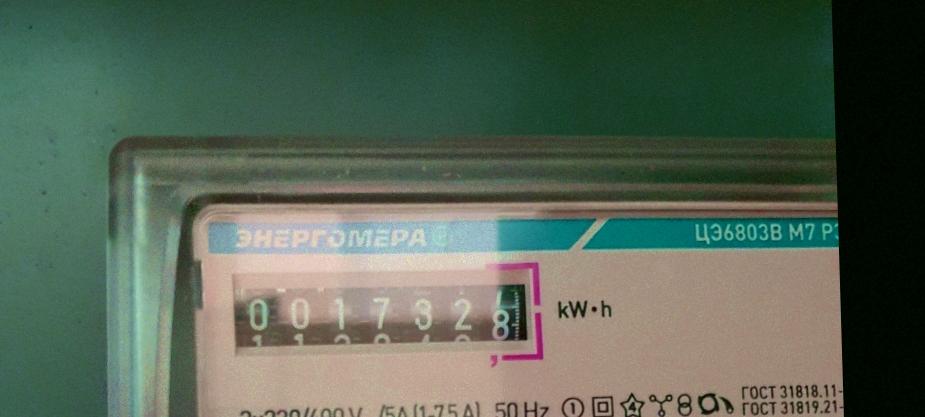0: (248, 294, 270, 332), (289, 295, 310, 329)
1: (332, 294, 348, 330)
2: (451, 296, 473, 332)
3: (411, 295, 435, 331)
7: (368, 293, 393, 331)
8: (489, 306, 510, 341)
screen: (222, 261, 547, 371)
